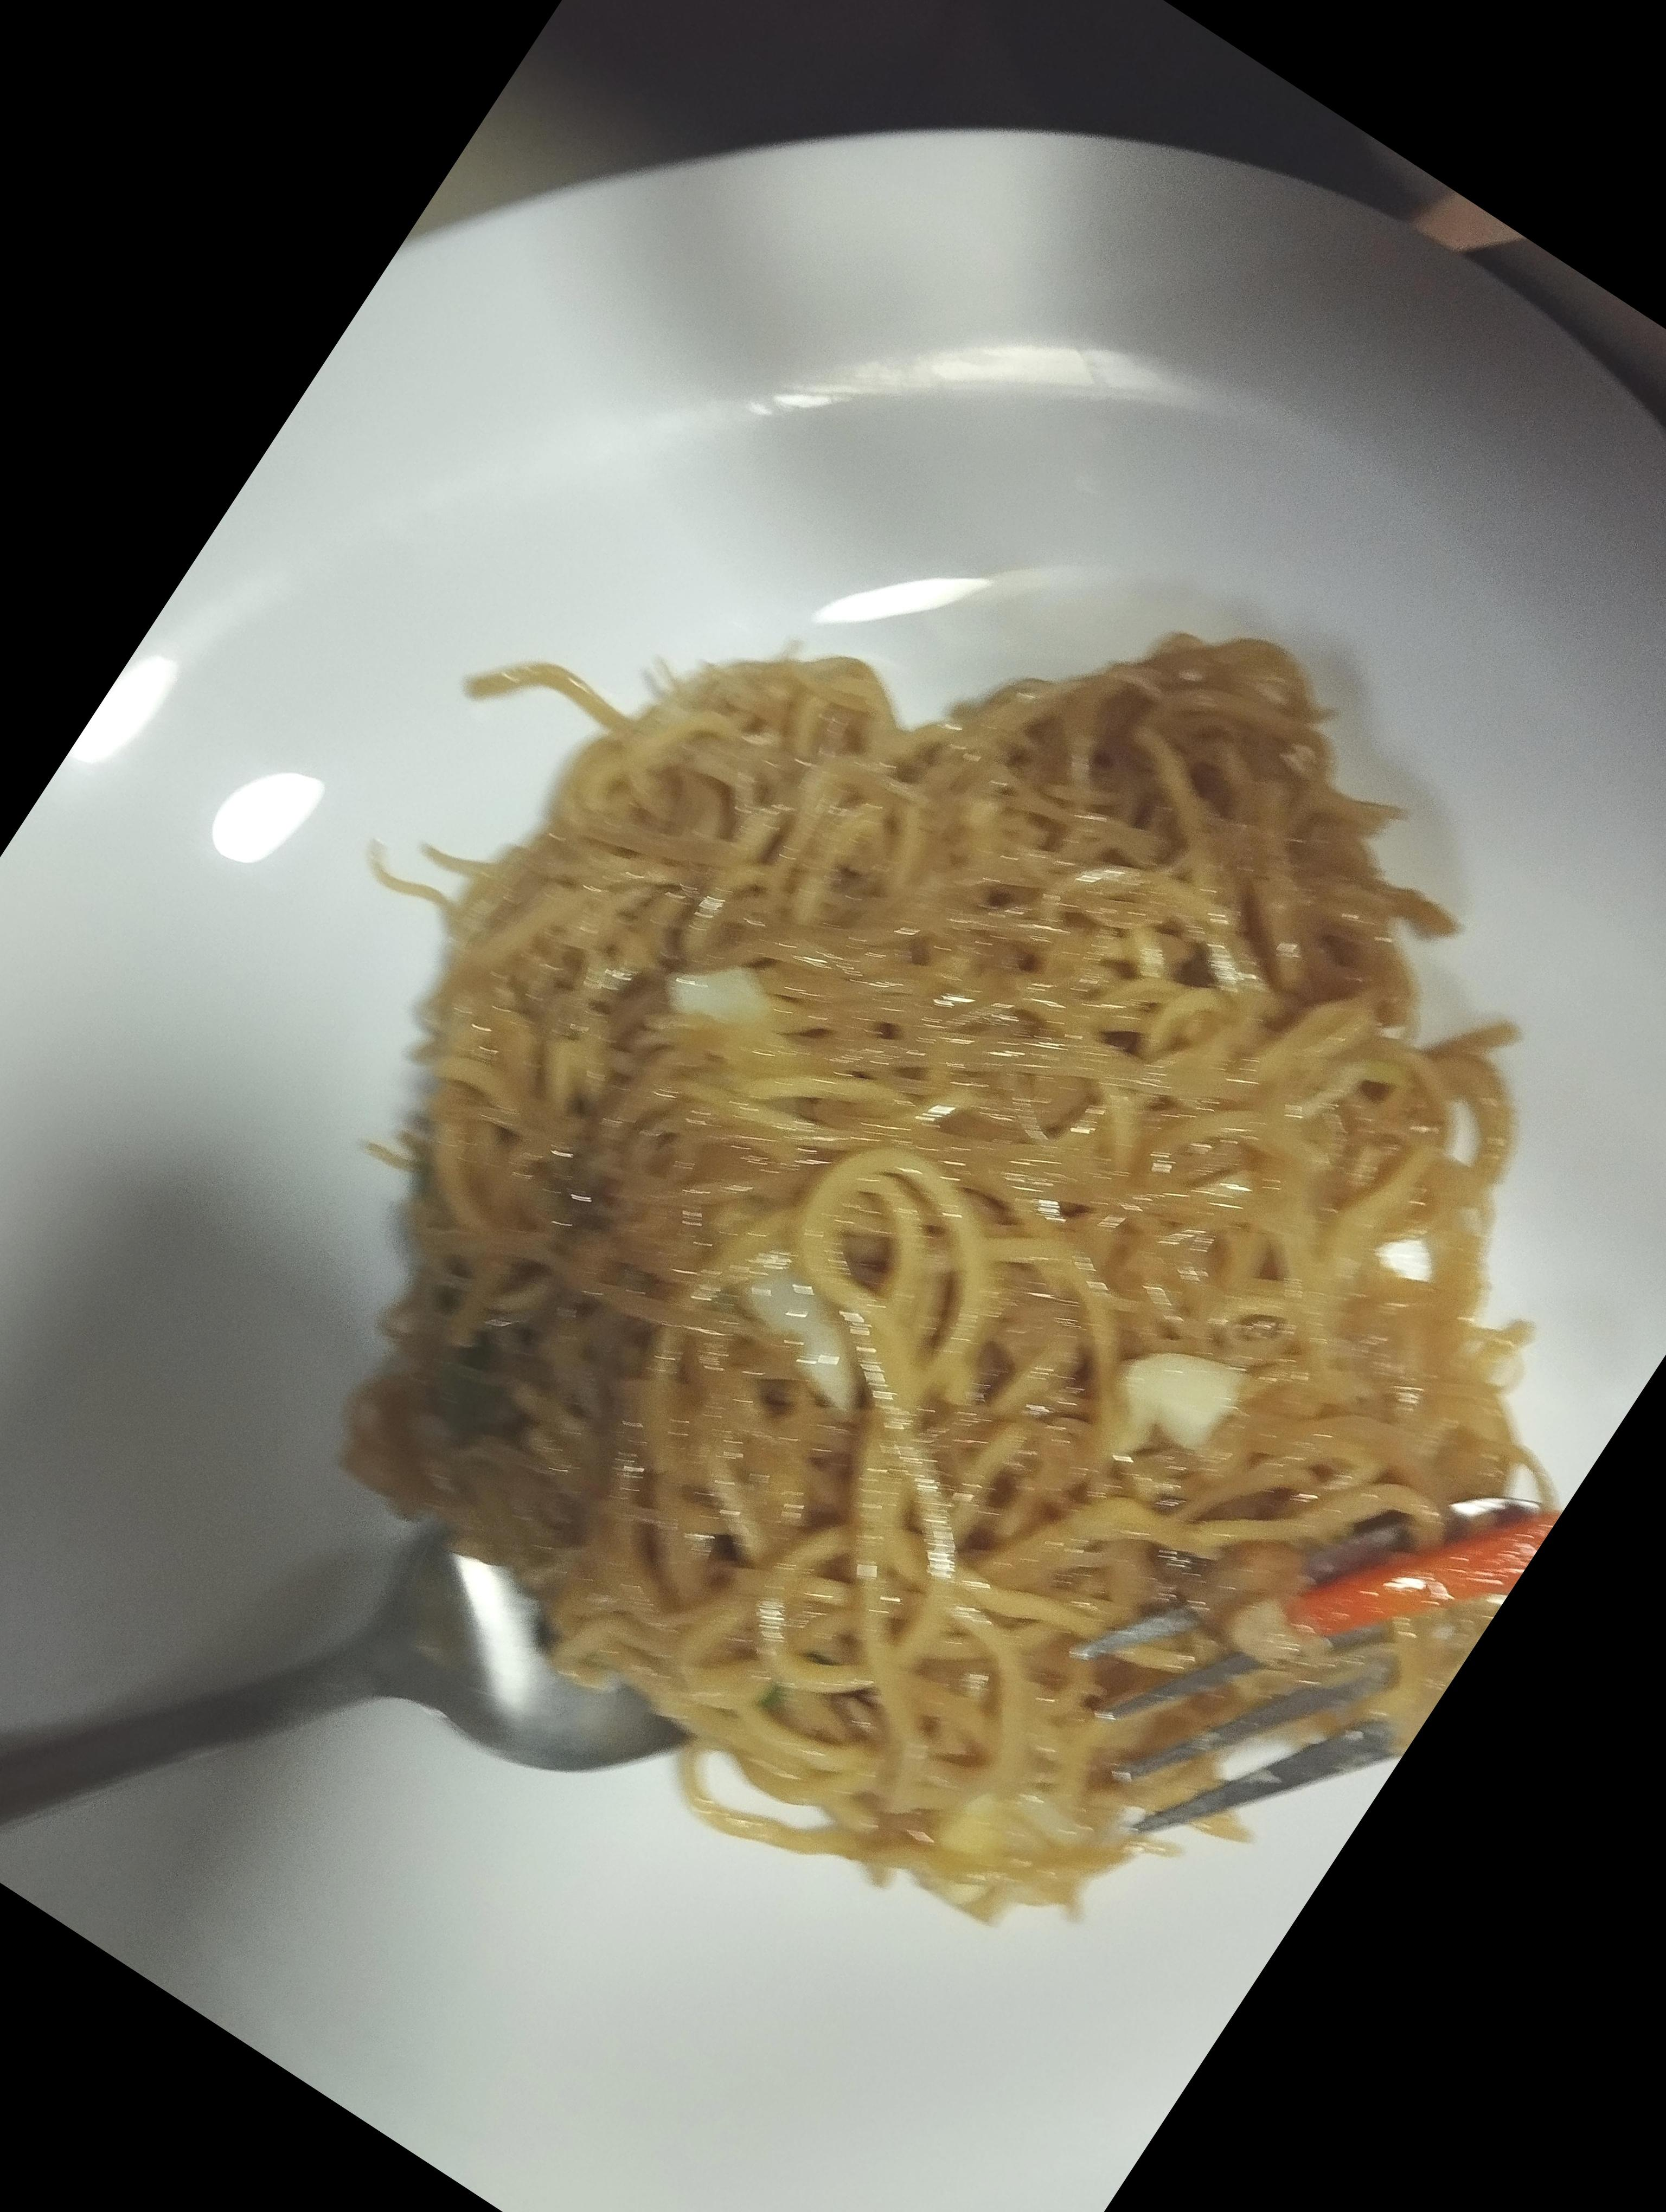pancit bihon: (317, 612, 1402, 1848)
